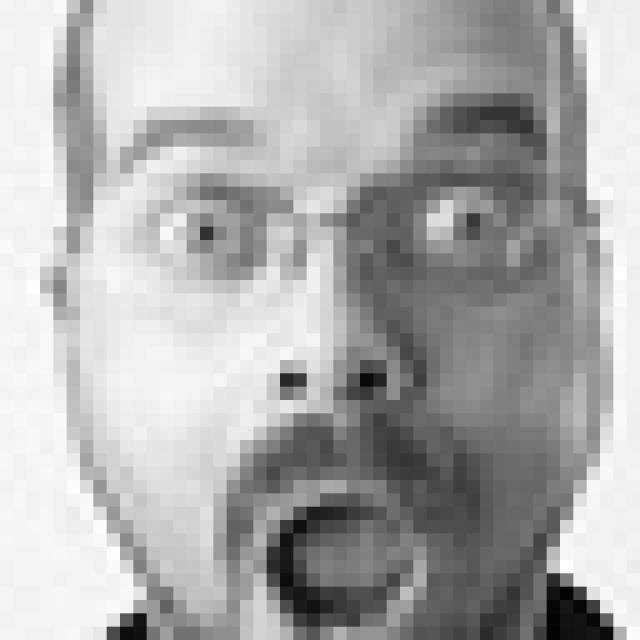surprise: (102, 97, 560, 640)
